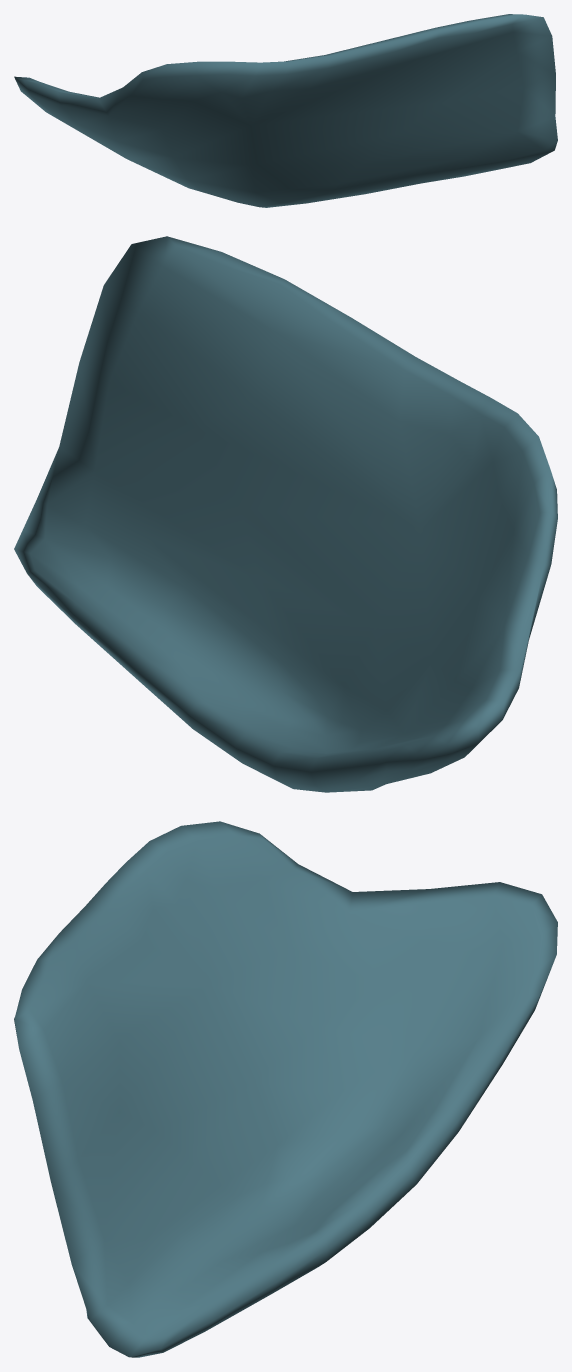
The model's file is Sternohyoid_hyoid_bone_right.glb.
3 views of the same model, one above another, from view 1: azimuth 30°, elevation 25°; view 2: azimuth 150°, elevation 25°; view 3: azimuth 270°, elevation 25° (orthographic). The views are drawn at different scales.
Visible parts, largest first — view 1: Sternohyoid_muscle_on_hyoid_bone.r_Generated_Mesh_From_X3D.9; view 2: Sternohyoid_muscle_on_hyoid_bone.r_Generated_Mesh_From_X3D.9; view 3: Sternohyoid_muscle_on_hyoid_bone.r_Generated_Mesh_From_X3D.9.
Boxes of the visible parts, x1,y1,x2,y2 form: Sternohyoid_muscle_on_hyoid_bone.r_Generated_Mesh_From_X3D.9: (14,14,557,207); Sternohyoid_muscle_on_hyoid_bone.r_Generated_Mesh_From_X3D.9: (14,236,557,792); Sternohyoid_muscle_on_hyoid_bone.r_Generated_Mesh_From_X3D.9: (14,821,557,1357).
Size of the model in its own units: 0.00958 by 0.00475 by 0.00669.
